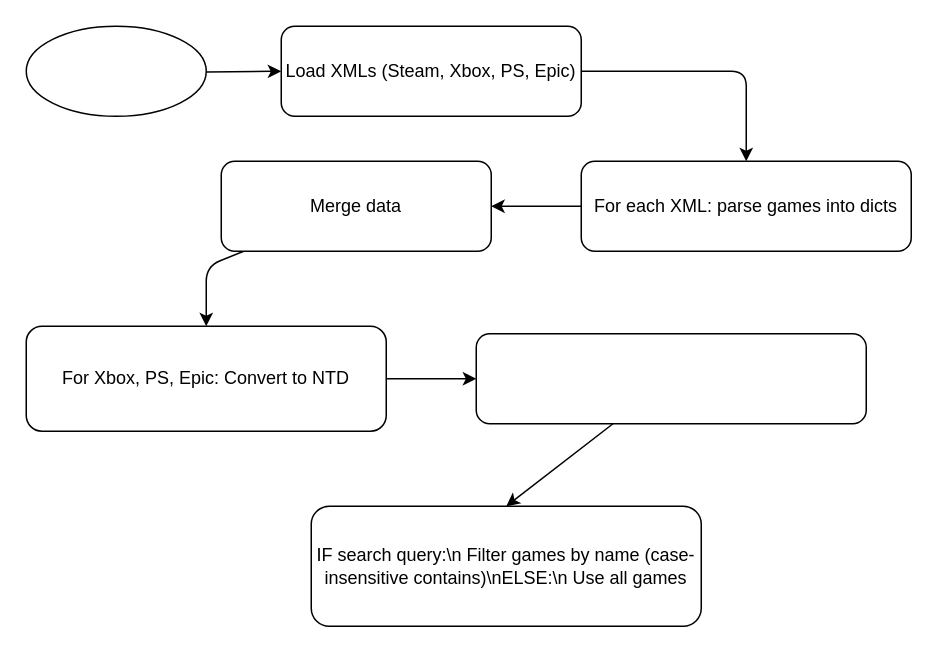
Some shapes in this 938 by 653 pixel diagram are drawn without their labels. Here are the shapes that lost their labels. From the top down, the box of each, then its label:
(25, 25, 206, 116): User visits /
(475, 332, 866, 424): Sort games by number of prices available (desc)
